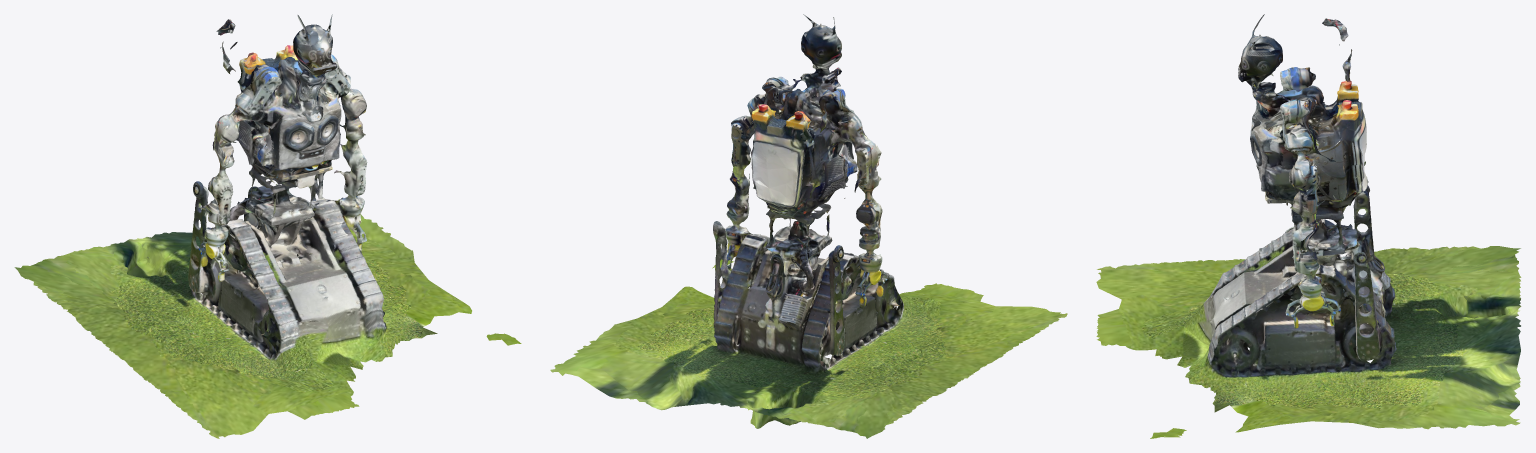
Rendered from rob-treads-up.glb.
The picture shows the model from 3 angles, left to right: view 1: azimuth 30°, elevation 25°; view 2: azimuth 150°, elevation 25°; view 3: azimuth 270°, elevation 25°; orthographic projection. The views are drawn at different scales.
Visible parts, largest first — view 1: ROB treads up; view 2: ROB treads up; view 3: ROB treads up.
Boxes of the visible parts, x1=… form: ROB treads up: x1=14, y1=14, x2=521, y2=438; ROB treads up: x1=550, y1=14, x2=1067, y2=438; ROB treads up: x1=1096, y1=14, x2=1521, y2=438.
Bounding box in the file's own units: 1.28 × 1.2 × 1.36.
1 material, 1 textured.
